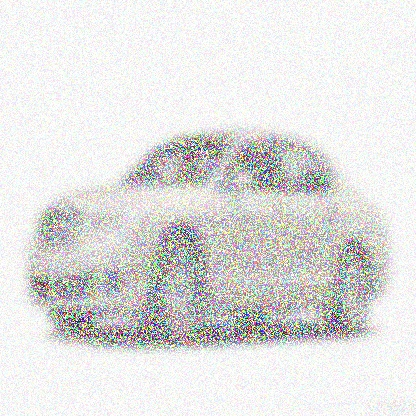Vehicle: (19, 125, 396, 351)
